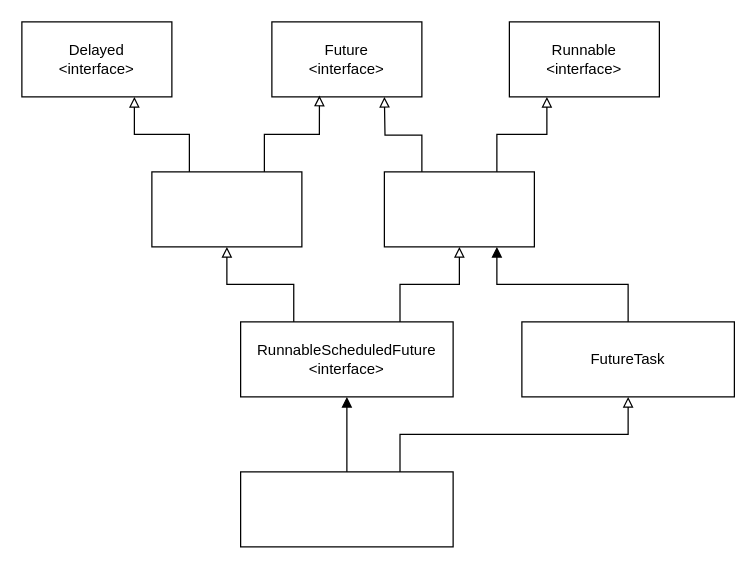
This 756x569 diagram has some shape labels left out. The shapes that lost their labels are listed below. From the top down, each one's centre as x and y in pixels, then its label:
At [226,209]: "ScheduledFuture <interface>".
At [458,209]: "RunnableFuture <interface>".
At [346,509]: "ScheduledFutureTask".
